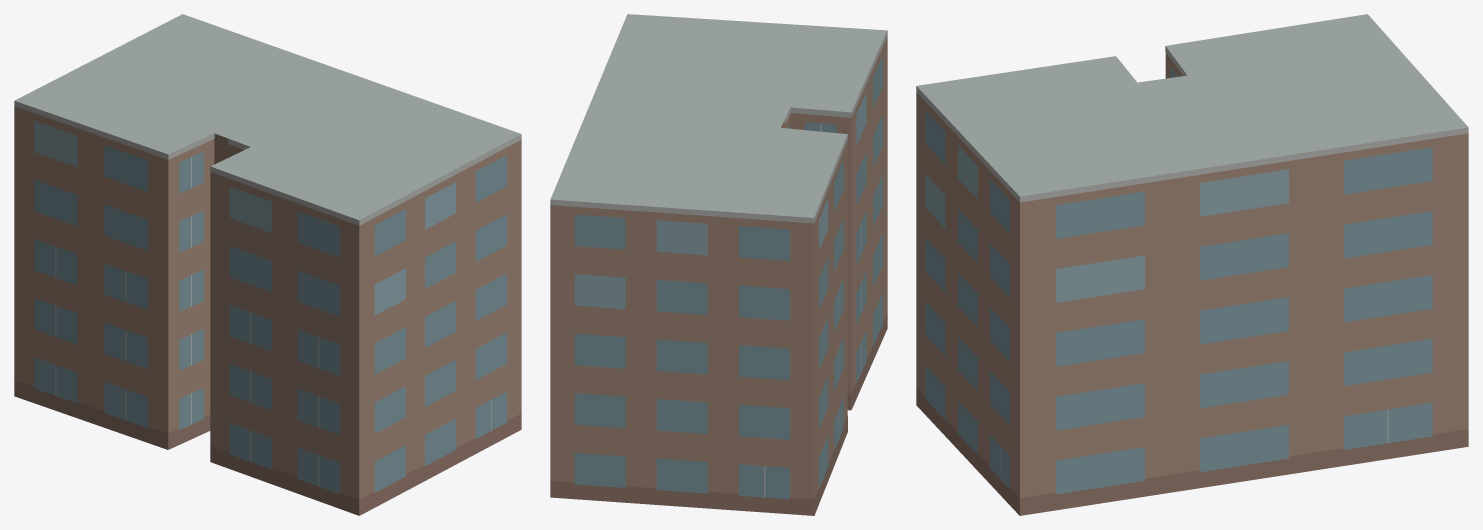
Rendered from survey-upis-32942700.glb.
The picture shows the model from 3 angles, left to right: view 1: azimuth 30°, elevation 25°; view 2: azimuth 150°, elevation 25°; view 3: azimuth 270°, elevation 25°; orthographic projection. The views are drawn at different scales.
Parts seen in each view (by area): view 1: survey-upis-32942700.tmp; view 2: survey-upis-32942700.tmp; view 3: survey-upis-32942700.tmp.
Boxes of the visible parts, x1,y1,x2,y2 form: survey-upis-32942700.tmp: (14,14,521,515); survey-upis-32942700.tmp: (550,14,887,515); survey-upis-32942700.tmp: (916,14,1468,515).
Size of the model in its own units: 16.27 by 13.25 by 20.79.
